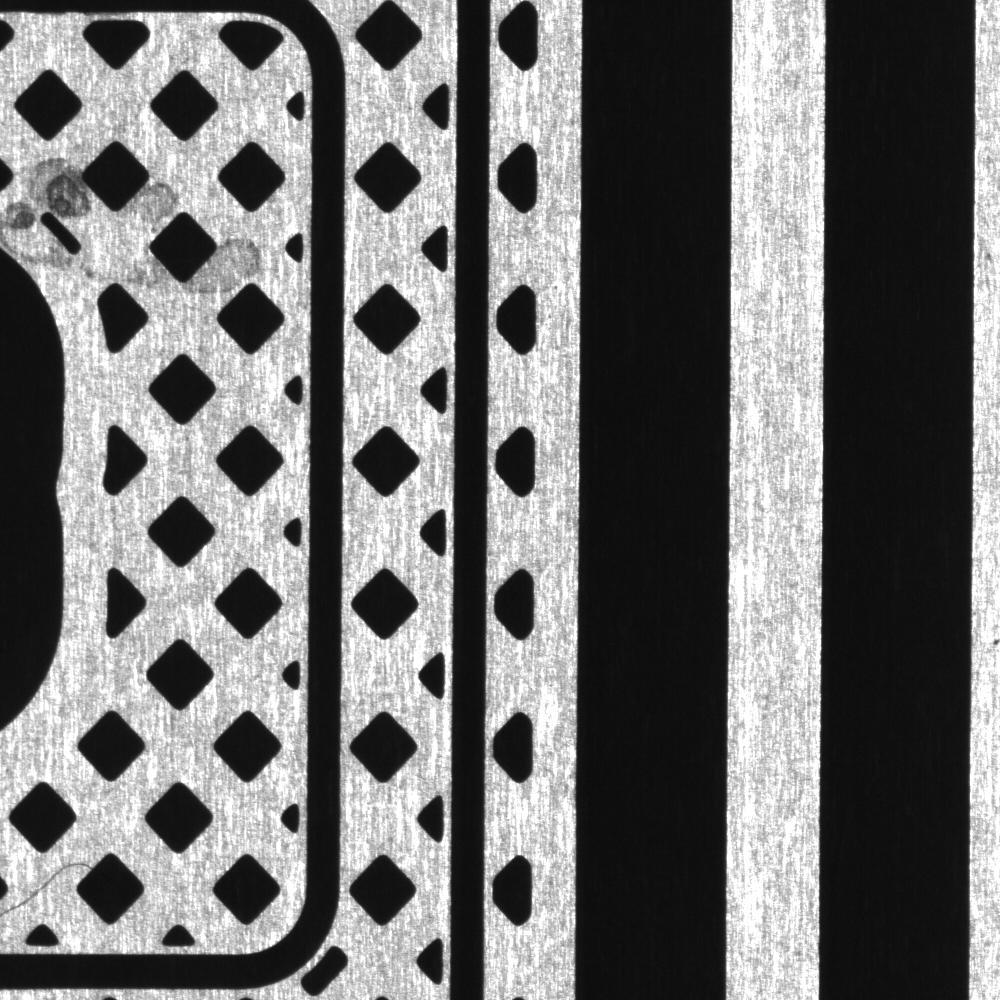Discolor: (6, 146, 86, 235), (193, 226, 275, 304), (136, 183, 176, 227)
Scar: (1, 852, 85, 925)
